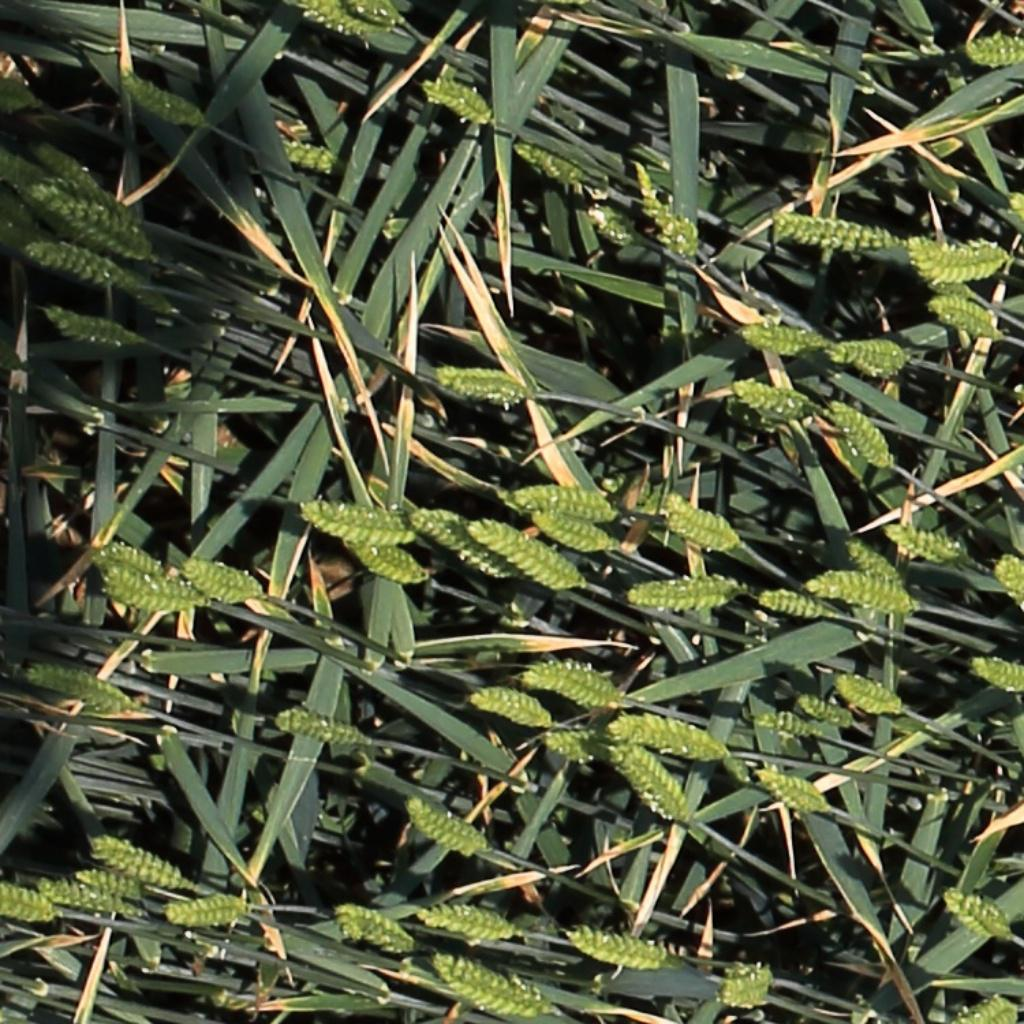0-0: (25, 240, 167, 308), (506, 654, 638, 712), (12, 652, 135, 714), (602, 709, 734, 765), (30, 137, 121, 217), (472, 521, 576, 588), (629, 165, 699, 263), (82, 830, 189, 894), (608, 741, 686, 828), (795, 566, 919, 617), (642, 494, 747, 554), (771, 214, 911, 258), (559, 918, 678, 969), (432, 958, 539, 1013), (409, 513, 503, 574), (595, 470, 701, 524), (618, 574, 756, 615), (501, 478, 618, 526), (30, 184, 131, 238), (35, 867, 136, 920), (414, 899, 532, 944), (826, 398, 894, 472), (86, 540, 192, 586), (271, 698, 368, 748), (419, 79, 508, 133), (330, 903, 417, 956), (404, 802, 484, 856), (434, 366, 535, 408), (712, 956, 783, 1013), (461, 682, 550, 727), (118, 75, 199, 124), (442, 980, 540, 1019), (278, 139, 357, 187), (301, 513, 408, 548), (162, 890, 251, 932), (99, 572, 199, 608), (753, 768, 826, 817), (45, 308, 137, 346), (178, 559, 259, 602), (529, 512, 614, 551), (942, 890, 1011, 937), (300, 502, 401, 533), (842, 537, 902, 589), (729, 379, 811, 417), (883, 524, 965, 562), (512, 137, 578, 182), (348, 543, 419, 584), (834, 674, 903, 714), (928, 297, 996, 334), (957, 32, 1024, 69), (299, 1, 364, 39), (0, 878, 55, 921), (793, 694, 854, 729), (737, 326, 827, 349), (582, 203, 632, 243), (995, 562, 1024, 630), (754, 589, 829, 615), (968, 658, 1024, 692), (70, 872, 140, 899), (826, 342, 907, 364), (959, 996, 1014, 1024), (771, 712, 835, 735), (342, 0, 395, 27), (1008, 191, 1024, 258)
